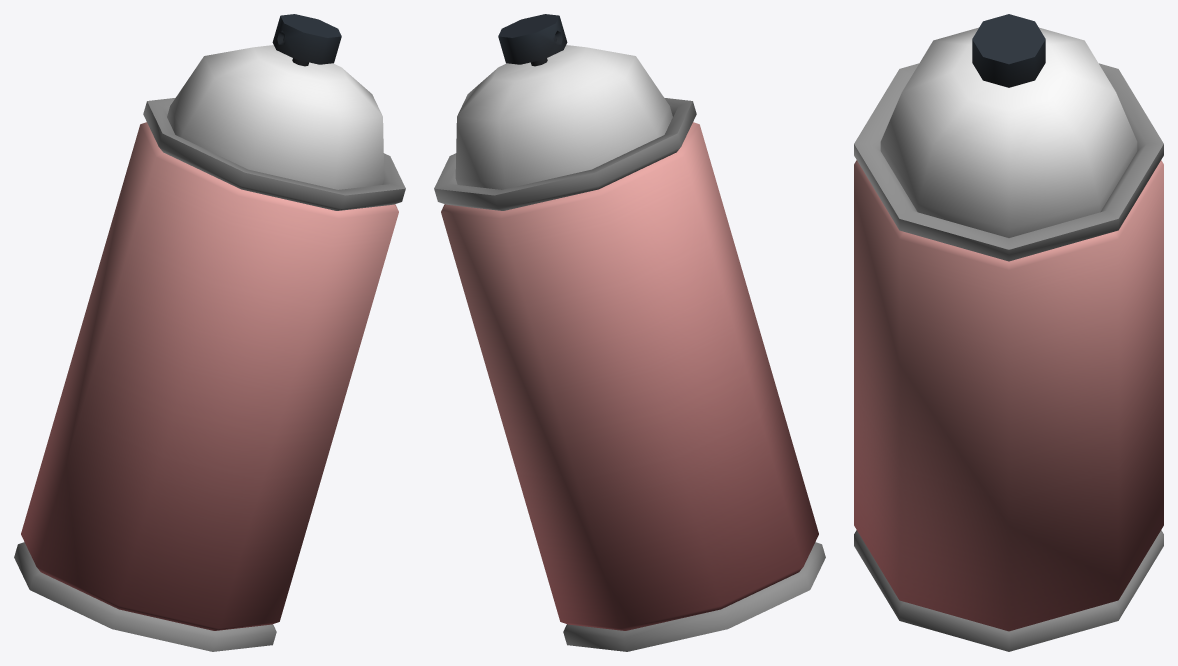
File: SprayCan 1.fbx
3 views of the same model, side by side, from view 1: azimuth 30°, elevation 25°; view 2: azimuth 150°, elevation 25°; view 3: azimuth 270°, elevation 25° (orthographic). The views are drawn at different scales.
Parts seen in each view (by area): view 1: Cylinder; view 2: Cylinder; view 3: Cylinder.
Part boxes in pixels (<box>): Cylinder: <box>14,14,405,651</box>; Cylinder: <box>434,14,825,651</box>; Cylinder: <box>854,14,1163,651</box>.
Size of the model in its own units: 43.64 by 67.38 by 29.
1 material, 1 textured.
